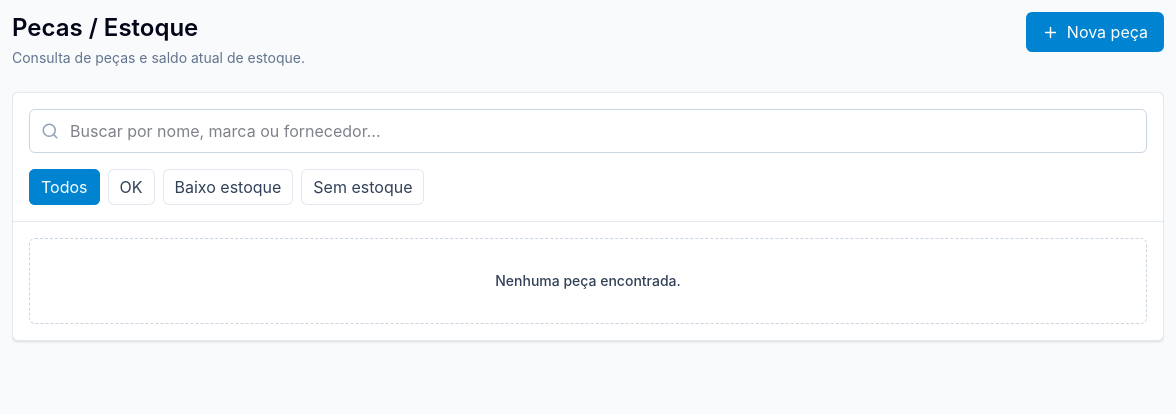
Test: PartsPage reliable stock › combines the server-side stock filter with the existing search
Expected: the text "Nenhuma peça encontrada." is shown, [495,272,681,289]
Click the button "Baixo estoque" at coordinates (228, 187), box [162,169,293,205]
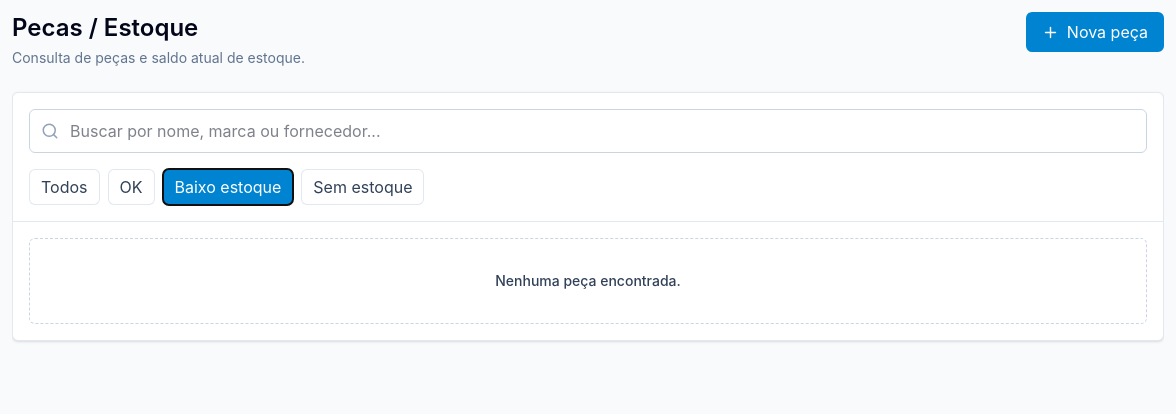
Type "ssd" into the search field with placeholder "Buscar por nome, marca ou fornecedor..." at coordinates (588, 131), box [29,109,1147,153]
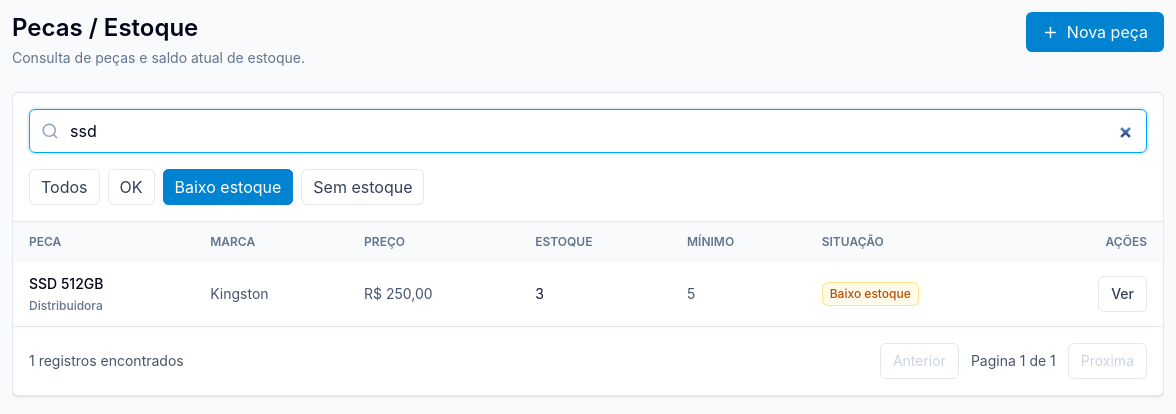
Expected: the text "SSD 512GB" is shown 2 times
